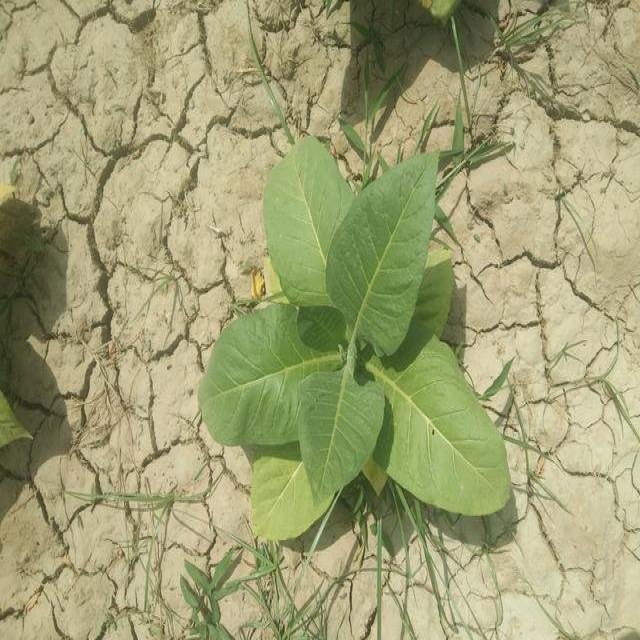crop: (200, 131, 514, 544)
